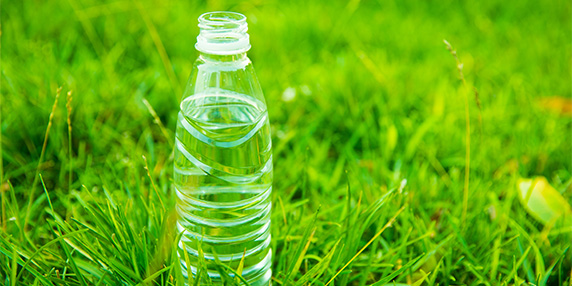plastic_bottle: (172, 7, 277, 286)
